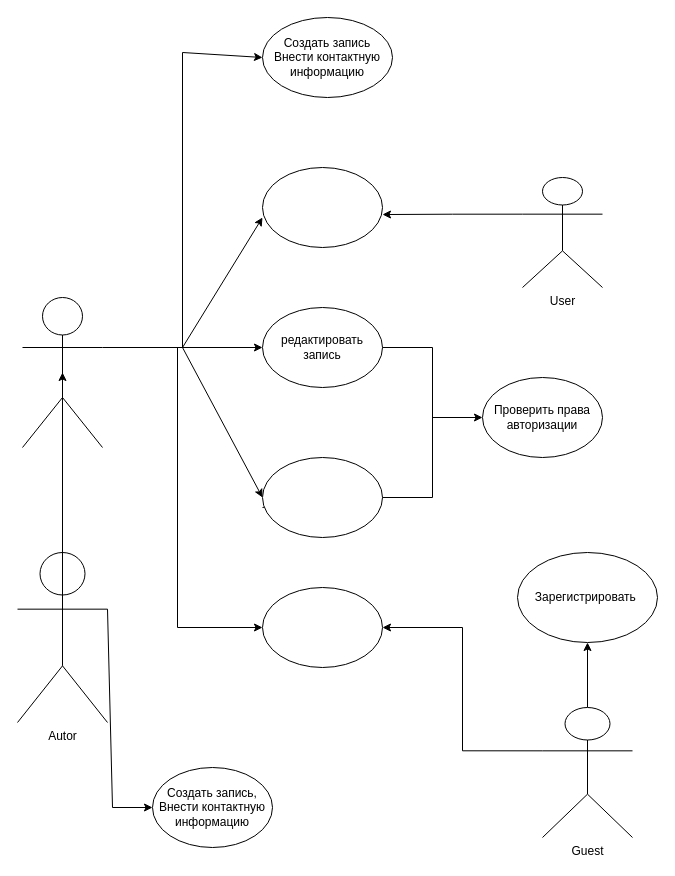
Some shapes in this 675 by 876 pixel diagram are drawn without their labels. Each missing label, with the centre of its shape:
"Admin" belongs at point (62, 372).
"добавить комментарий" belongs at point (322, 207).
"просмотреть все запись" belongs at point (322, 627).
"удалить запись" belongs at point (322, 497).
